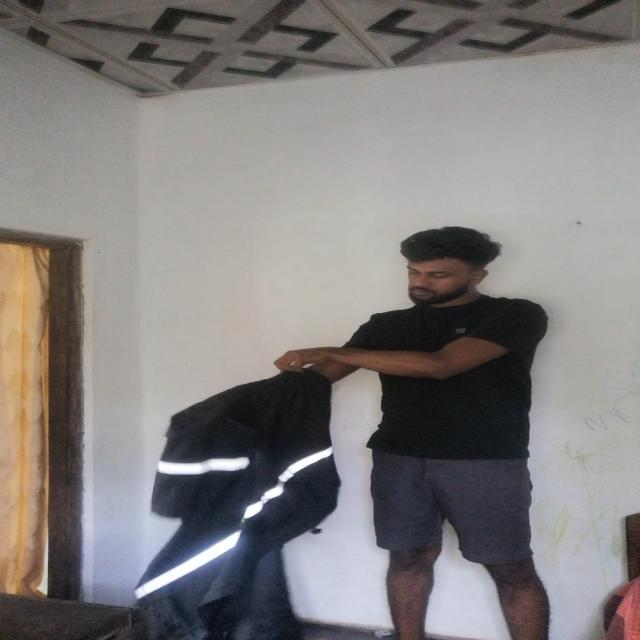Person: (316, 227, 585, 635)
